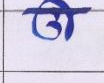i_matra: (58, 0, 74, 40)
